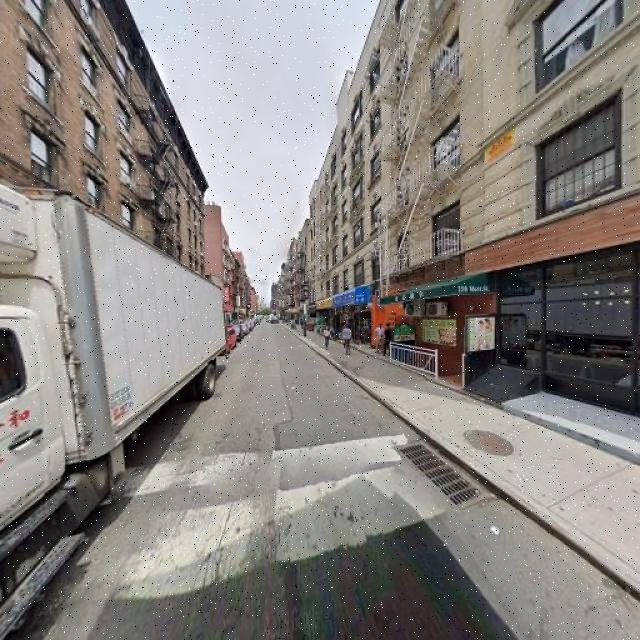Building: (313, 1, 640, 422), (1, 1, 202, 398)
